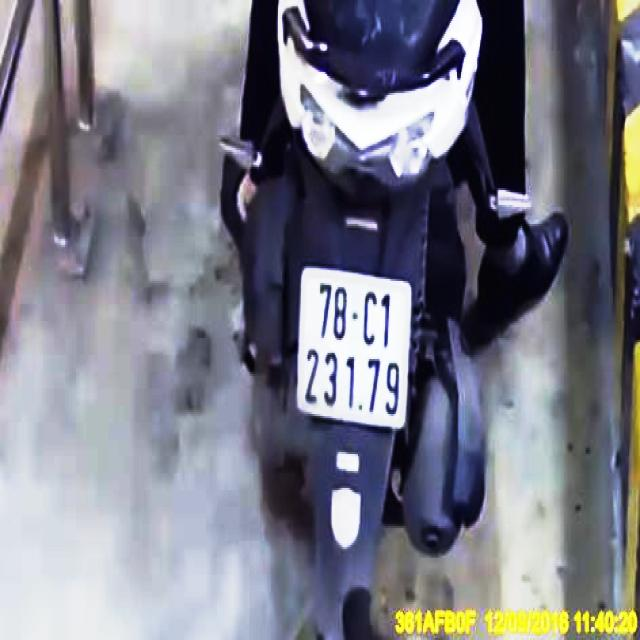license_plate: (298, 266, 414, 433)
